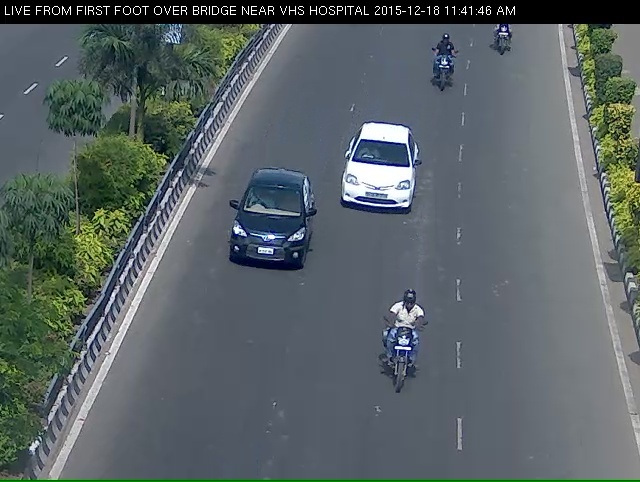Car: (218, 174, 316, 293), (330, 137, 430, 235)
Person: (375, 309, 432, 425), (425, 37, 460, 107), (484, 18, 526, 66)
